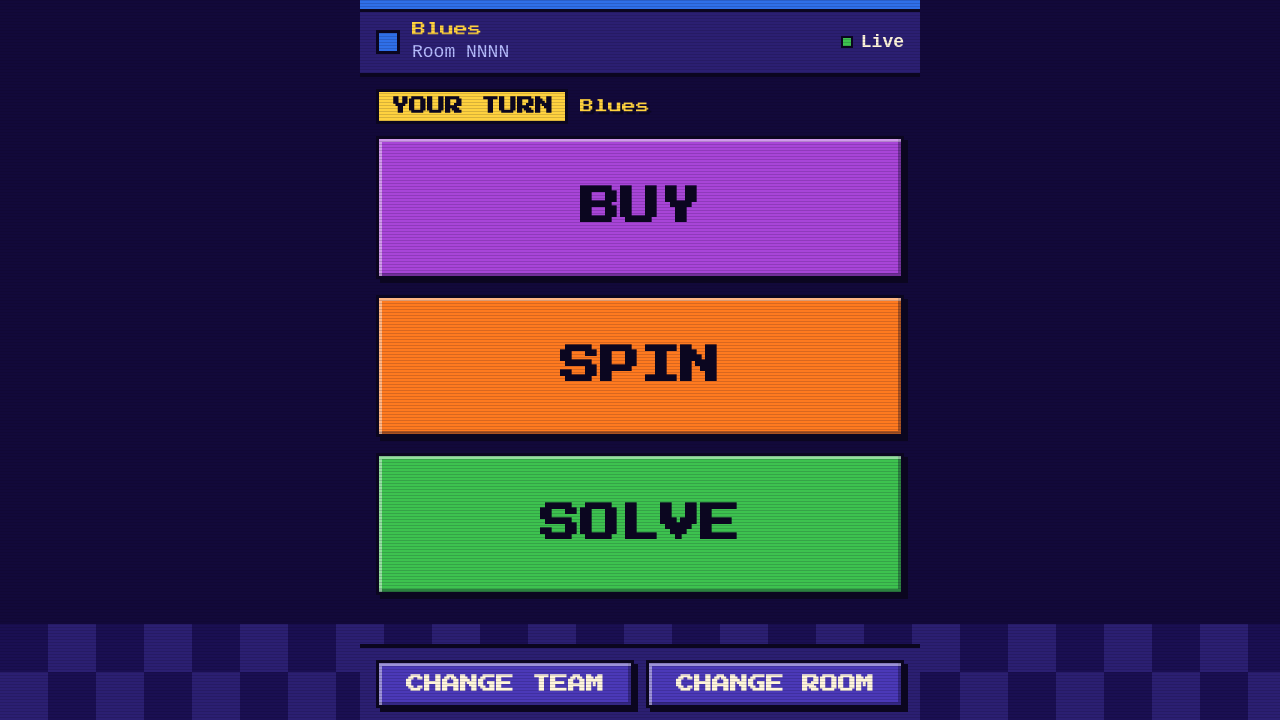
Scenario: podium › keeps the answer box when the stage turns the buttons off after solve-start
This screenshot has width=1280, height=720.
Expected: the text "Live" is shown, [841,30,904,55]
What coordinates should you click on to do the following:
click the button "Solve"
I would click on:
 (640, 524)
Its box is [376,453,904,595].
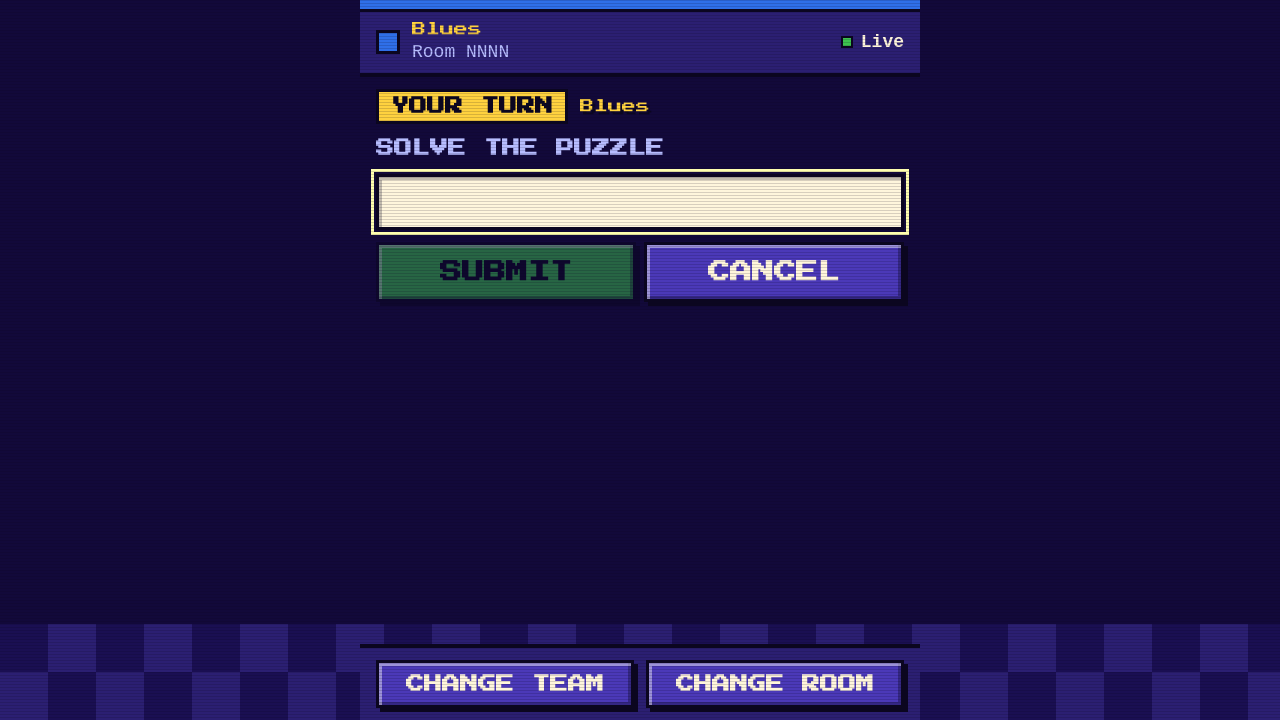
Expected: the field labelled "Solve the puzzle" is shown, [376,174,904,230]
